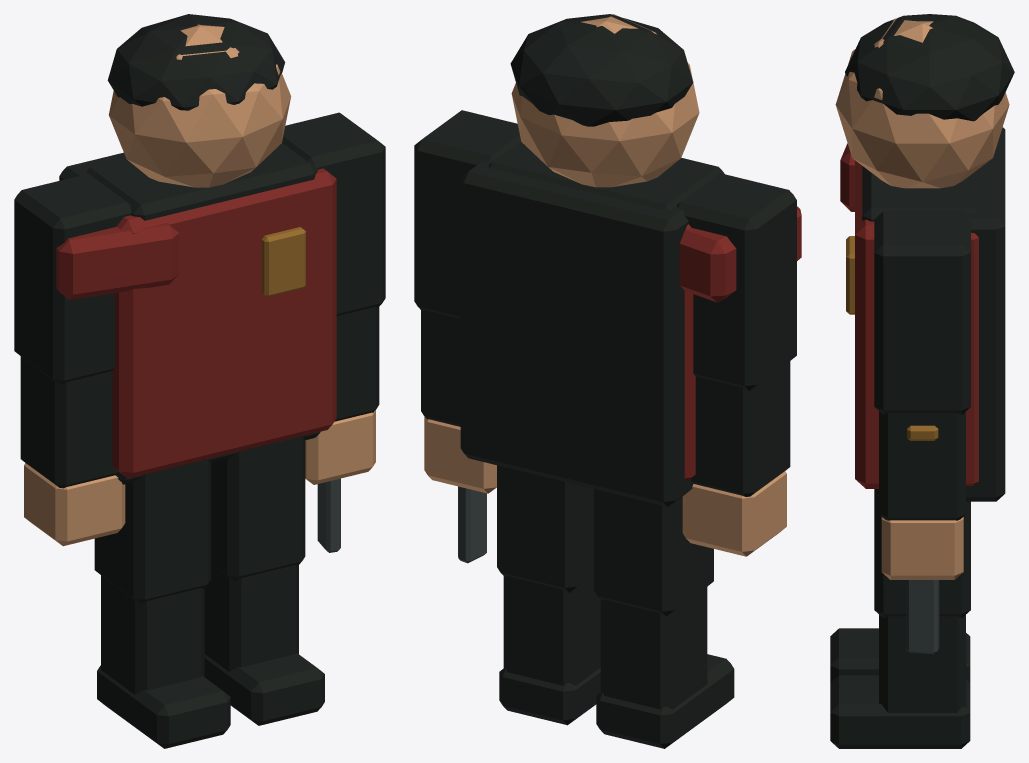
File: RookBelforgeMarshal.glb
3 views of the same model, side by side, from view 1: azimuth 30°, elevation 25°; view 2: azimuth 150°, elevation 25°; view 3: azimuth 270°, elevation 25° (orthographic). The views are drawn at different scales.
Visible parts, largest first — view 1: UpperTorso_Tunic, LeftUpperArm, Head, LeftUpperLeg, RightUpperLeg, Head_HairCap, RightUpperArm, LeftLowerArm, LeftLowerLeg, RightLowerLeg, UpperTorso_CommandPauldron, UpperTorso (+8 smaller); view 2: UpperTorso_CommandCoat, LeftUpperArm, Head_HairCap, RightUpperArm, Head, LeftUpperLeg, LeftLowerLeg, LeftLowerArm, RightUpperLeg, RightLowerLeg, LeftHand, LeftFoot (+7 smaller); view 3: RightUpperArm, Head_HairCap, Head, UpperTorso_CommandCoat, RightLowerArm, UpperTorso_Tunic, RightLowerLeg, RightFoot, RightHand, UpperTorso, RightUpperLeg, LeftFoot (+4 smaller).
Part boxes in pixels (box(x1,y1,x2,y2)): UpperTorso_Tunic: box(112, 168, 336, 478); LeftUpperArm: box(14, 173, 131, 385); Head: box(109, 24, 291, 187); LeftUpperLeg: box(94, 459, 211, 604); RightUpperLeg: box(211, 436, 305, 581); Head_HairCap: box(107, 14, 285, 110); RightUpperArm: box(282, 112, 385, 315); LeftLowerArm: box(20, 356, 119, 488); LeftLowerLeg: box(101, 575, 204, 694); RightLowerLeg: box(204, 564, 298, 671); UpperTorso_CommandPauldron: box(56, 223, 178, 299); UpperTorso: box(86, 143, 317, 220); UpperTorso_CommandCoat: box(460, 160, 693, 506); LeftUpperArm: box(676, 173, 796, 390); Head_HairCap: box(510, 14, 693, 126); RightUpperArm: box(414, 110, 520, 318); Head: box(511, 14, 699, 187); LeftUpperLeg: box(594, 489, 713, 616); LeftLowerLeg: box(600, 587, 707, 709); LeftLowerArm: box(691, 361, 790, 496); RightUpperLeg: box(497, 465, 593, 592); RightLowerLeg: box(503, 575, 600, 685); LeftHand: box(682, 471, 786, 556); LeftFoot: box(596, 654, 734, 748); RightUpperArm: box(874, 211, 970, 414); Head_HairCap: box(845, 14, 1014, 121); Head: box(835, 18, 1009, 188); UpperTorso_CommandCoat: box(875, 127, 1005, 501); RightLowerArm: box(879, 411, 965, 520); UpperTorso_Tunic: box(855, 160, 978, 488); RightLowerLeg: box(879, 614, 965, 712); RightFoot: box(830, 675, 970, 748); RightHand: box(881, 517, 963, 579); UpperTorso: box(862, 166, 978, 221); RightUpperLeg: box(874, 489, 970, 618); LeftFoot: box(830, 628, 970, 682).
Size of the model in its own units: 4.39 by 8.48 by 2.06.
1 material, 1 textured.
